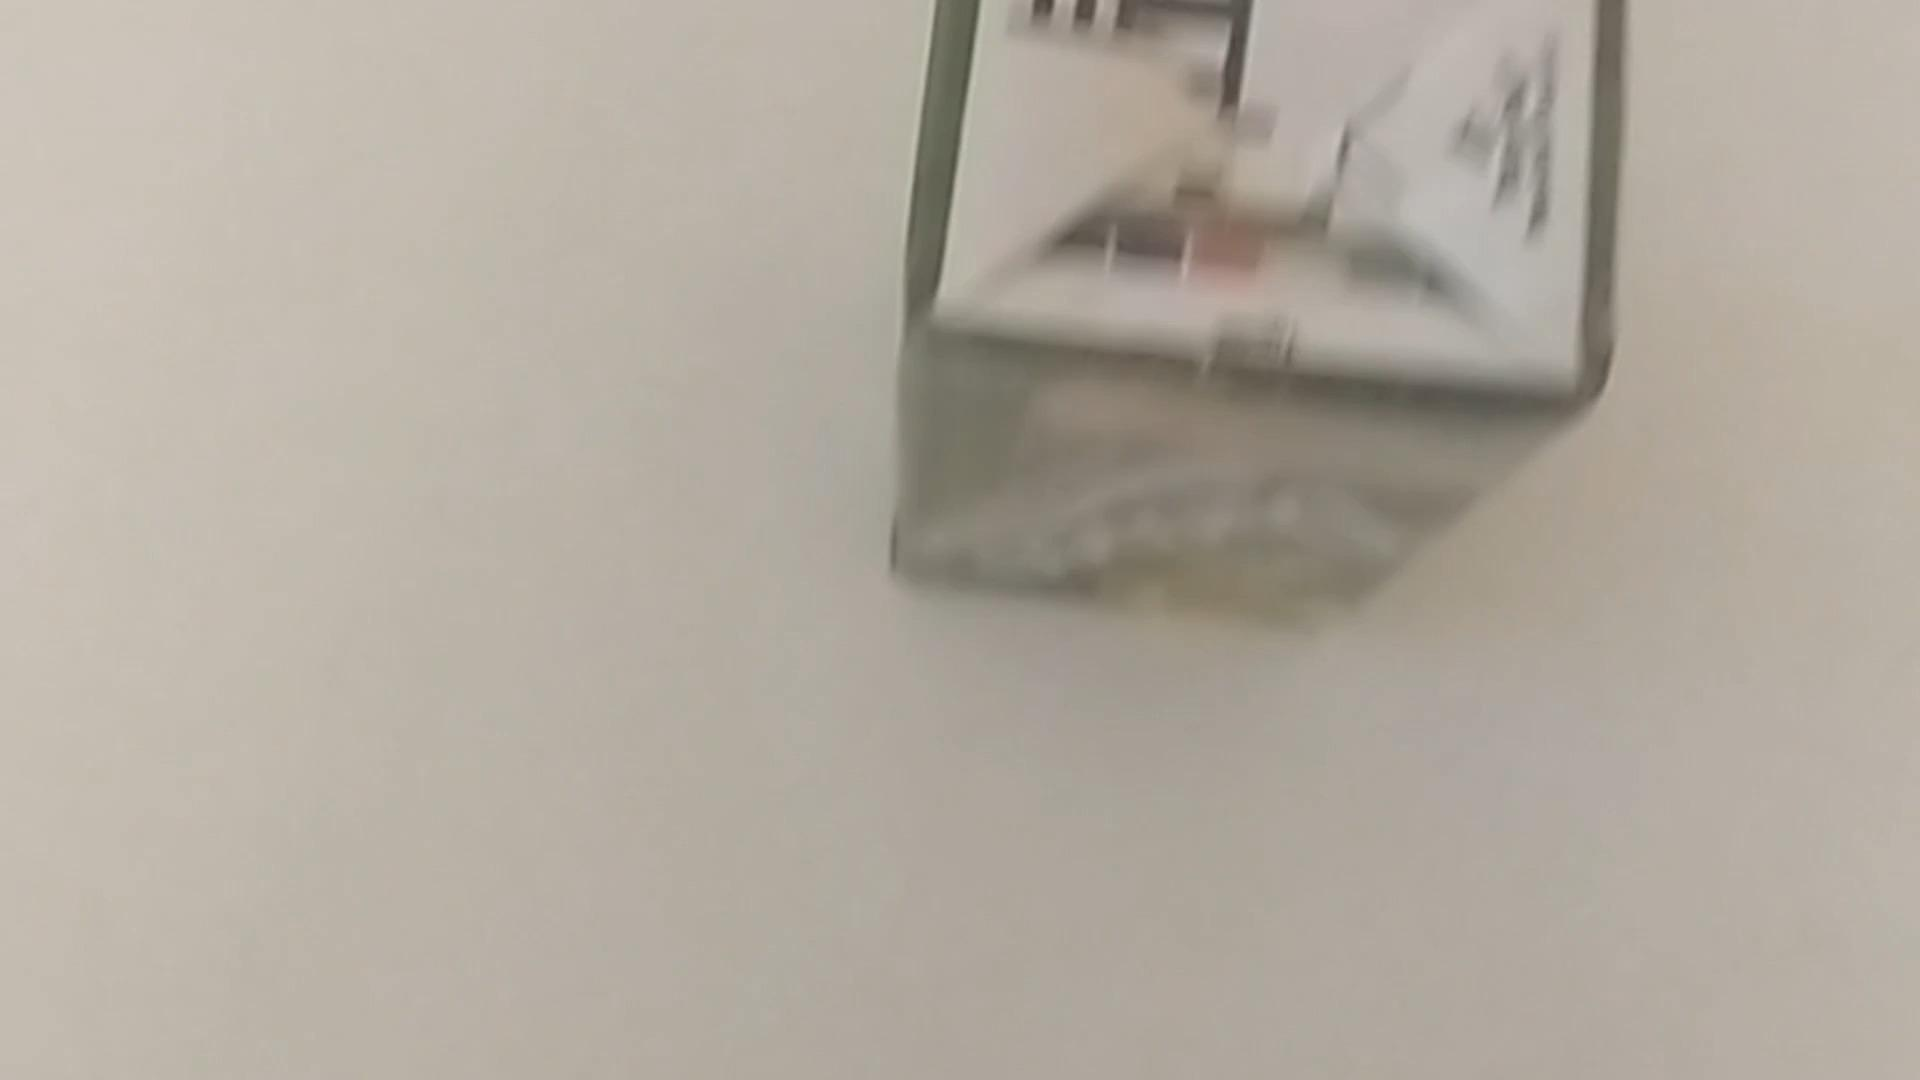coco: (868, 0, 1644, 637)
